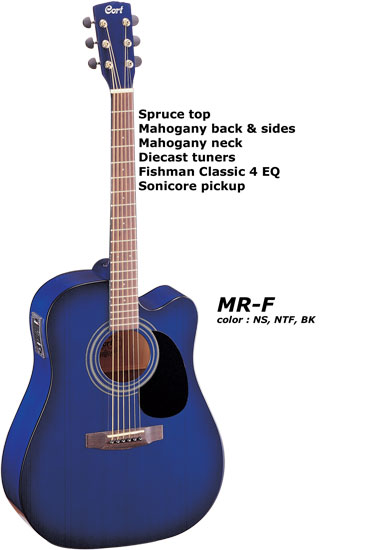guitar: (1, 1, 227, 550)
